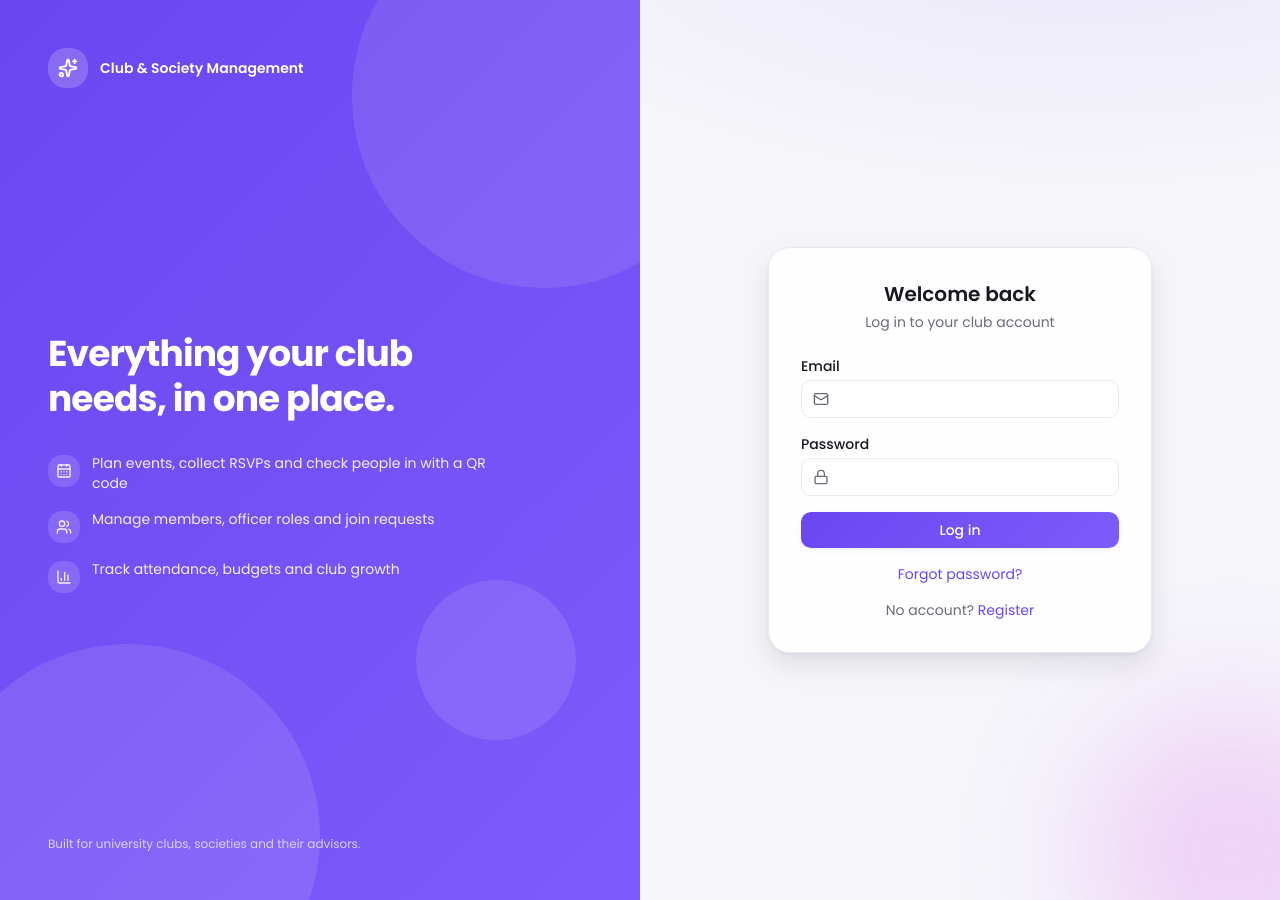
LoginPage › shows an inline error when the email is invalid after blur
In the field labelled "Email": (960, 399) [801, 380, 1119, 418], type "not-an-email"
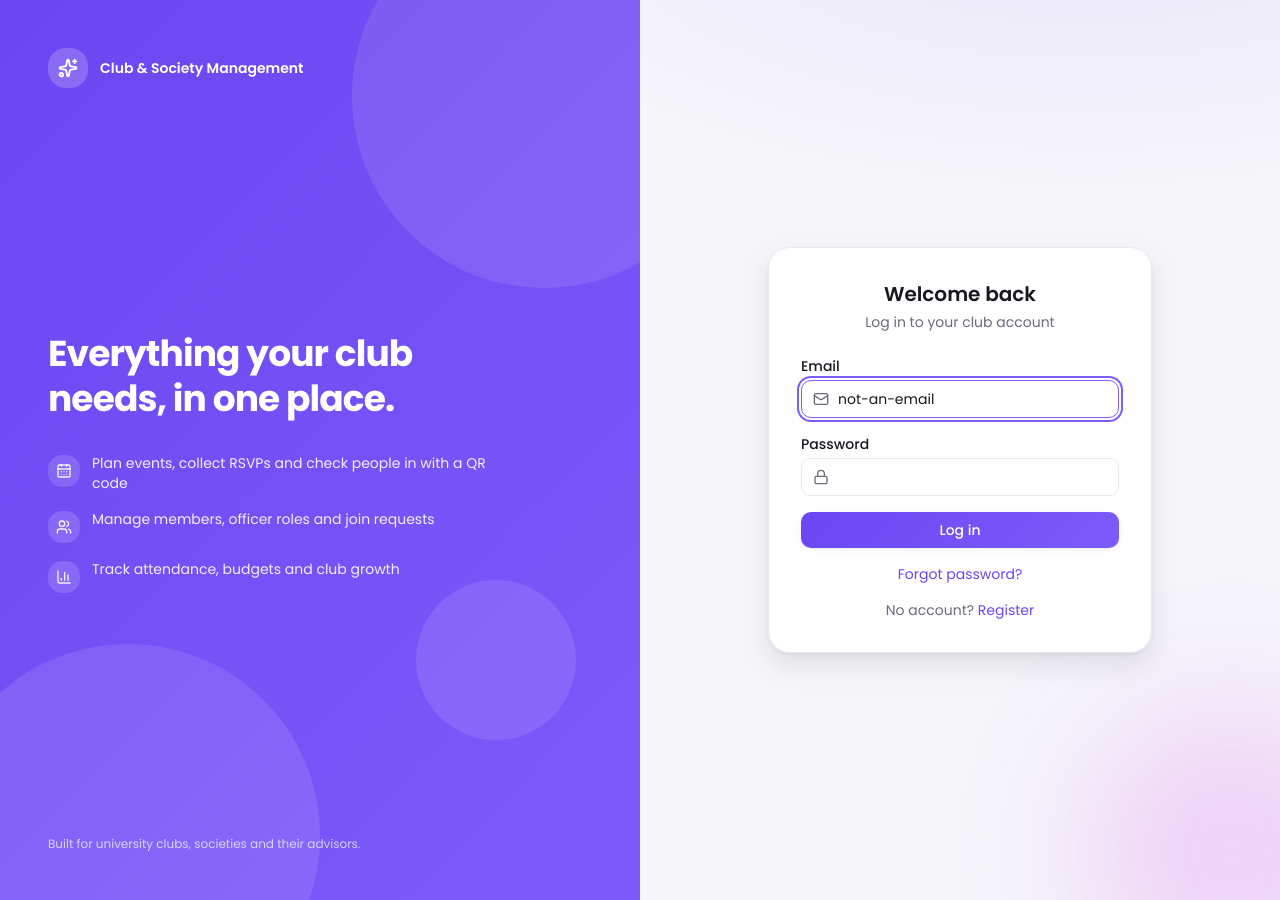
Press Tab
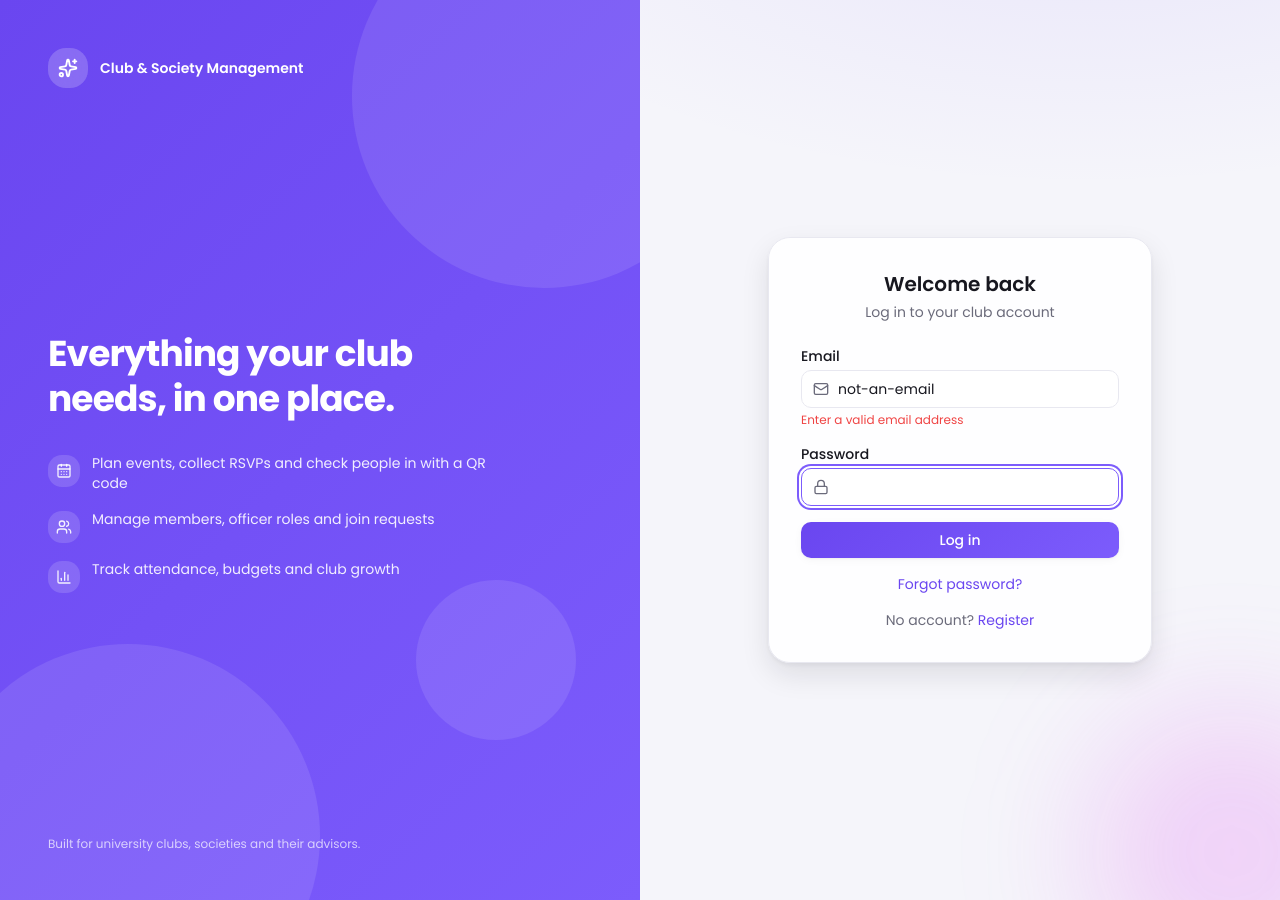
Result: the text "Enter a valid email address" is shown at [801, 411, 964, 428]
